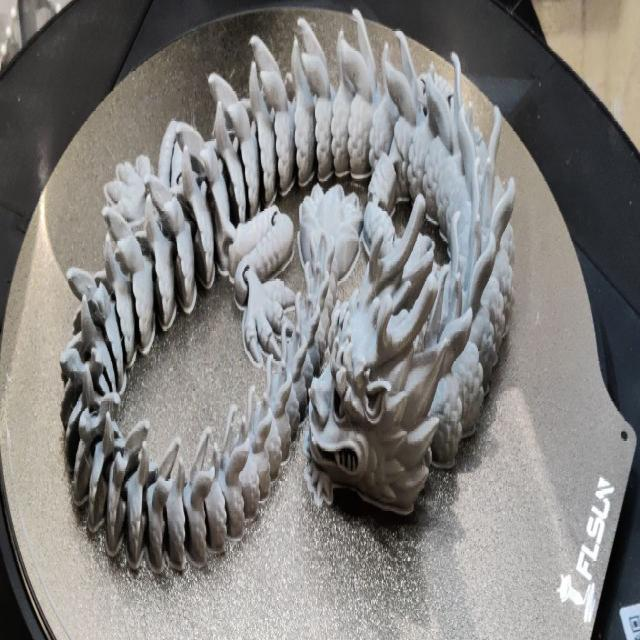Without deffect: (70, 19, 518, 571)
